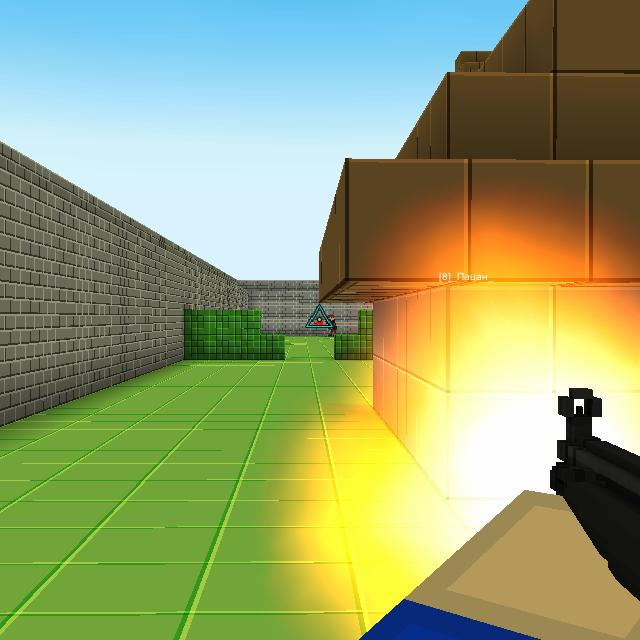enemy: (325, 314, 337, 336)
